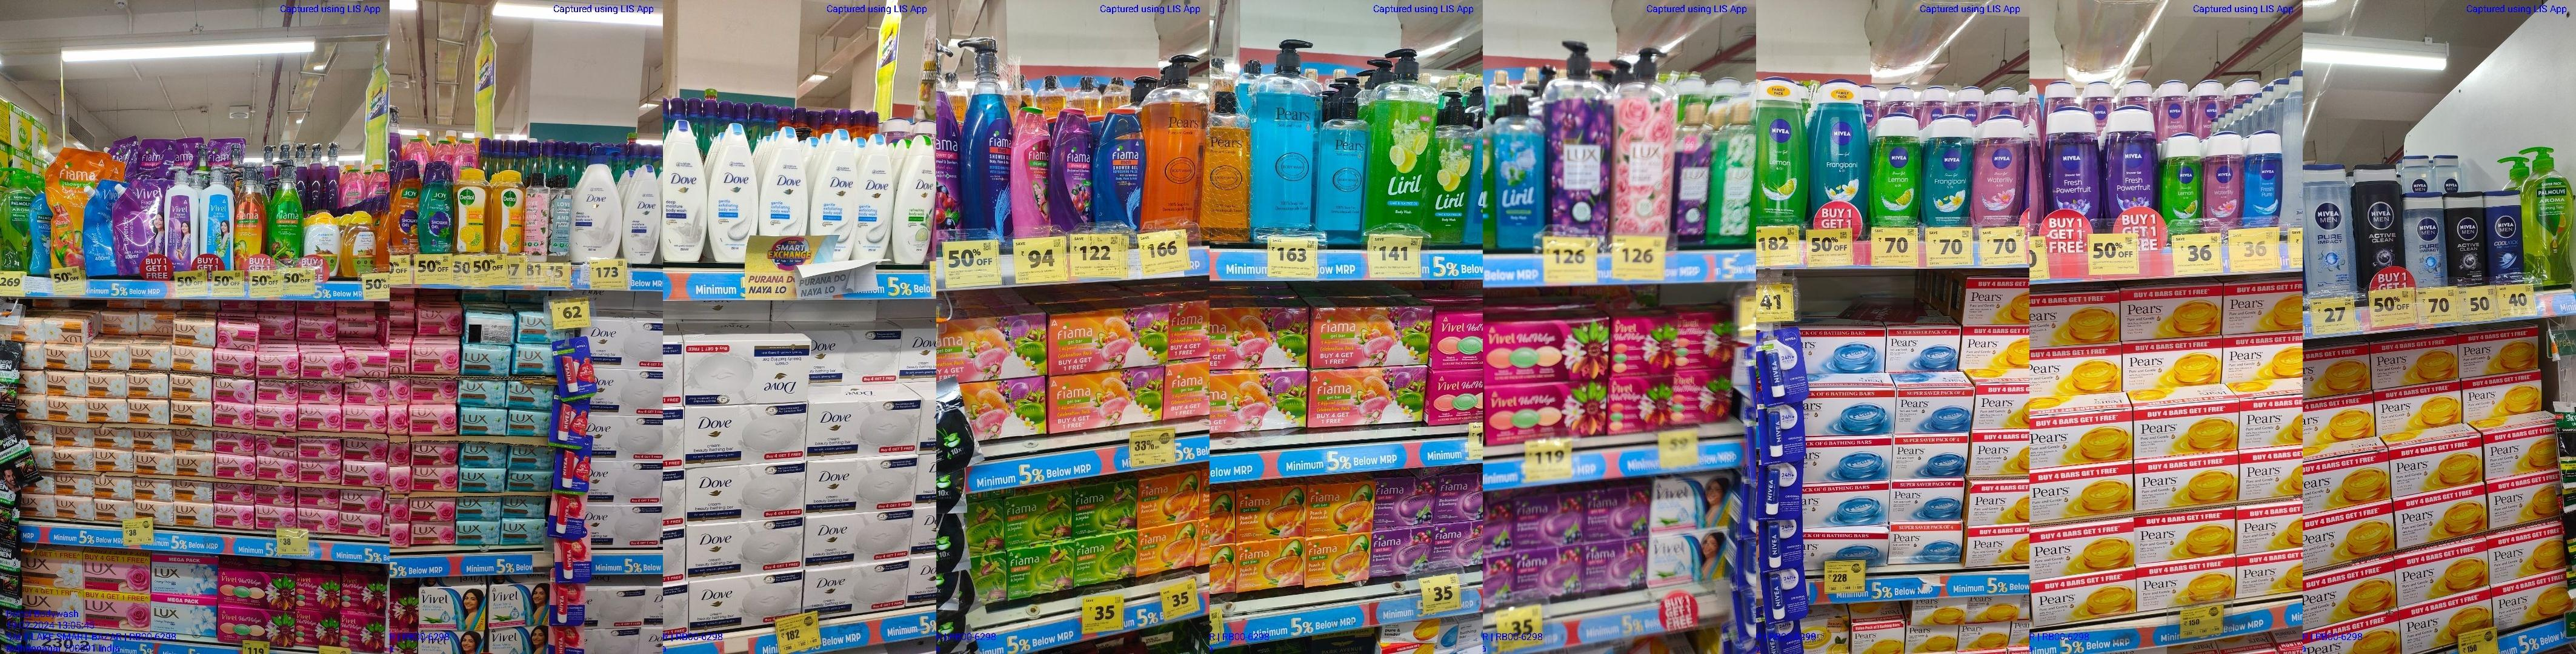Dettol_Bodywash_Refresh: (455, 168, 491, 251), (493, 171, 524, 253)
Dove_Deep_Moisture_Body_Wash_250ML: (664, 120, 708, 265), (623, 164, 662, 263)
Dove_Gentle_Exfoliating_Body_Wash_250ML: (711, 122, 757, 263), (761, 125, 810, 235), (813, 128, 854, 237), (858, 130, 890, 261)
Dove_Refreshing_Body_Wash_250ML: (894, 136, 935, 265)
Fiama_Shower_Gel_Patchouli_and_Macadamia_250ML: (1010, 105, 1051, 238)
Joy_Shower_Gel_Mandarin_and_Lemongrass_250ML: (391, 159, 419, 255)
Joy_Shower_Gel_Mint_and_Eucalyptus_250ML: (421, 161, 453, 253)
Lux_Black_Orchid_Scent_and_Juniper_Oil_Body_Wash_245ML: (1674, 100, 1709, 246)
Lux_Body_Wash_Skin_Detox_Freesia_Scent_and_Alove_Vera_245ML: (1713, 100, 1756, 245)
Nivea_Shower_Gel_Frangipani_and_Oil_250ML: (1812, 79, 1870, 205), (1924, 117, 1971, 225)
Nivea_Shower_Gel_Fresh_Powerfruit_250ML: (2045, 105, 2100, 214), (2103, 105, 2160, 207)
Nivea_Shower_Gel_Lemon_and_Oil_250ML: (1759, 77, 1809, 223), (1873, 112, 1920, 227), (2165, 133, 2201, 233)
Nivea_Shower_Gel_Waterlily_and_Oil_250ML: (1975, 118, 2026, 223), (2203, 135, 2242, 228)
Palmolive_Aroma_Moments_Feel_The_Massage_Shower_Gel_250ML: (28, 192, 49, 276)
Pears_Pure_Glycerin_and_Mint_Extracts_Body_Wash_250ML: (1493, 95, 1548, 251), (1321, 97, 1367, 248)
